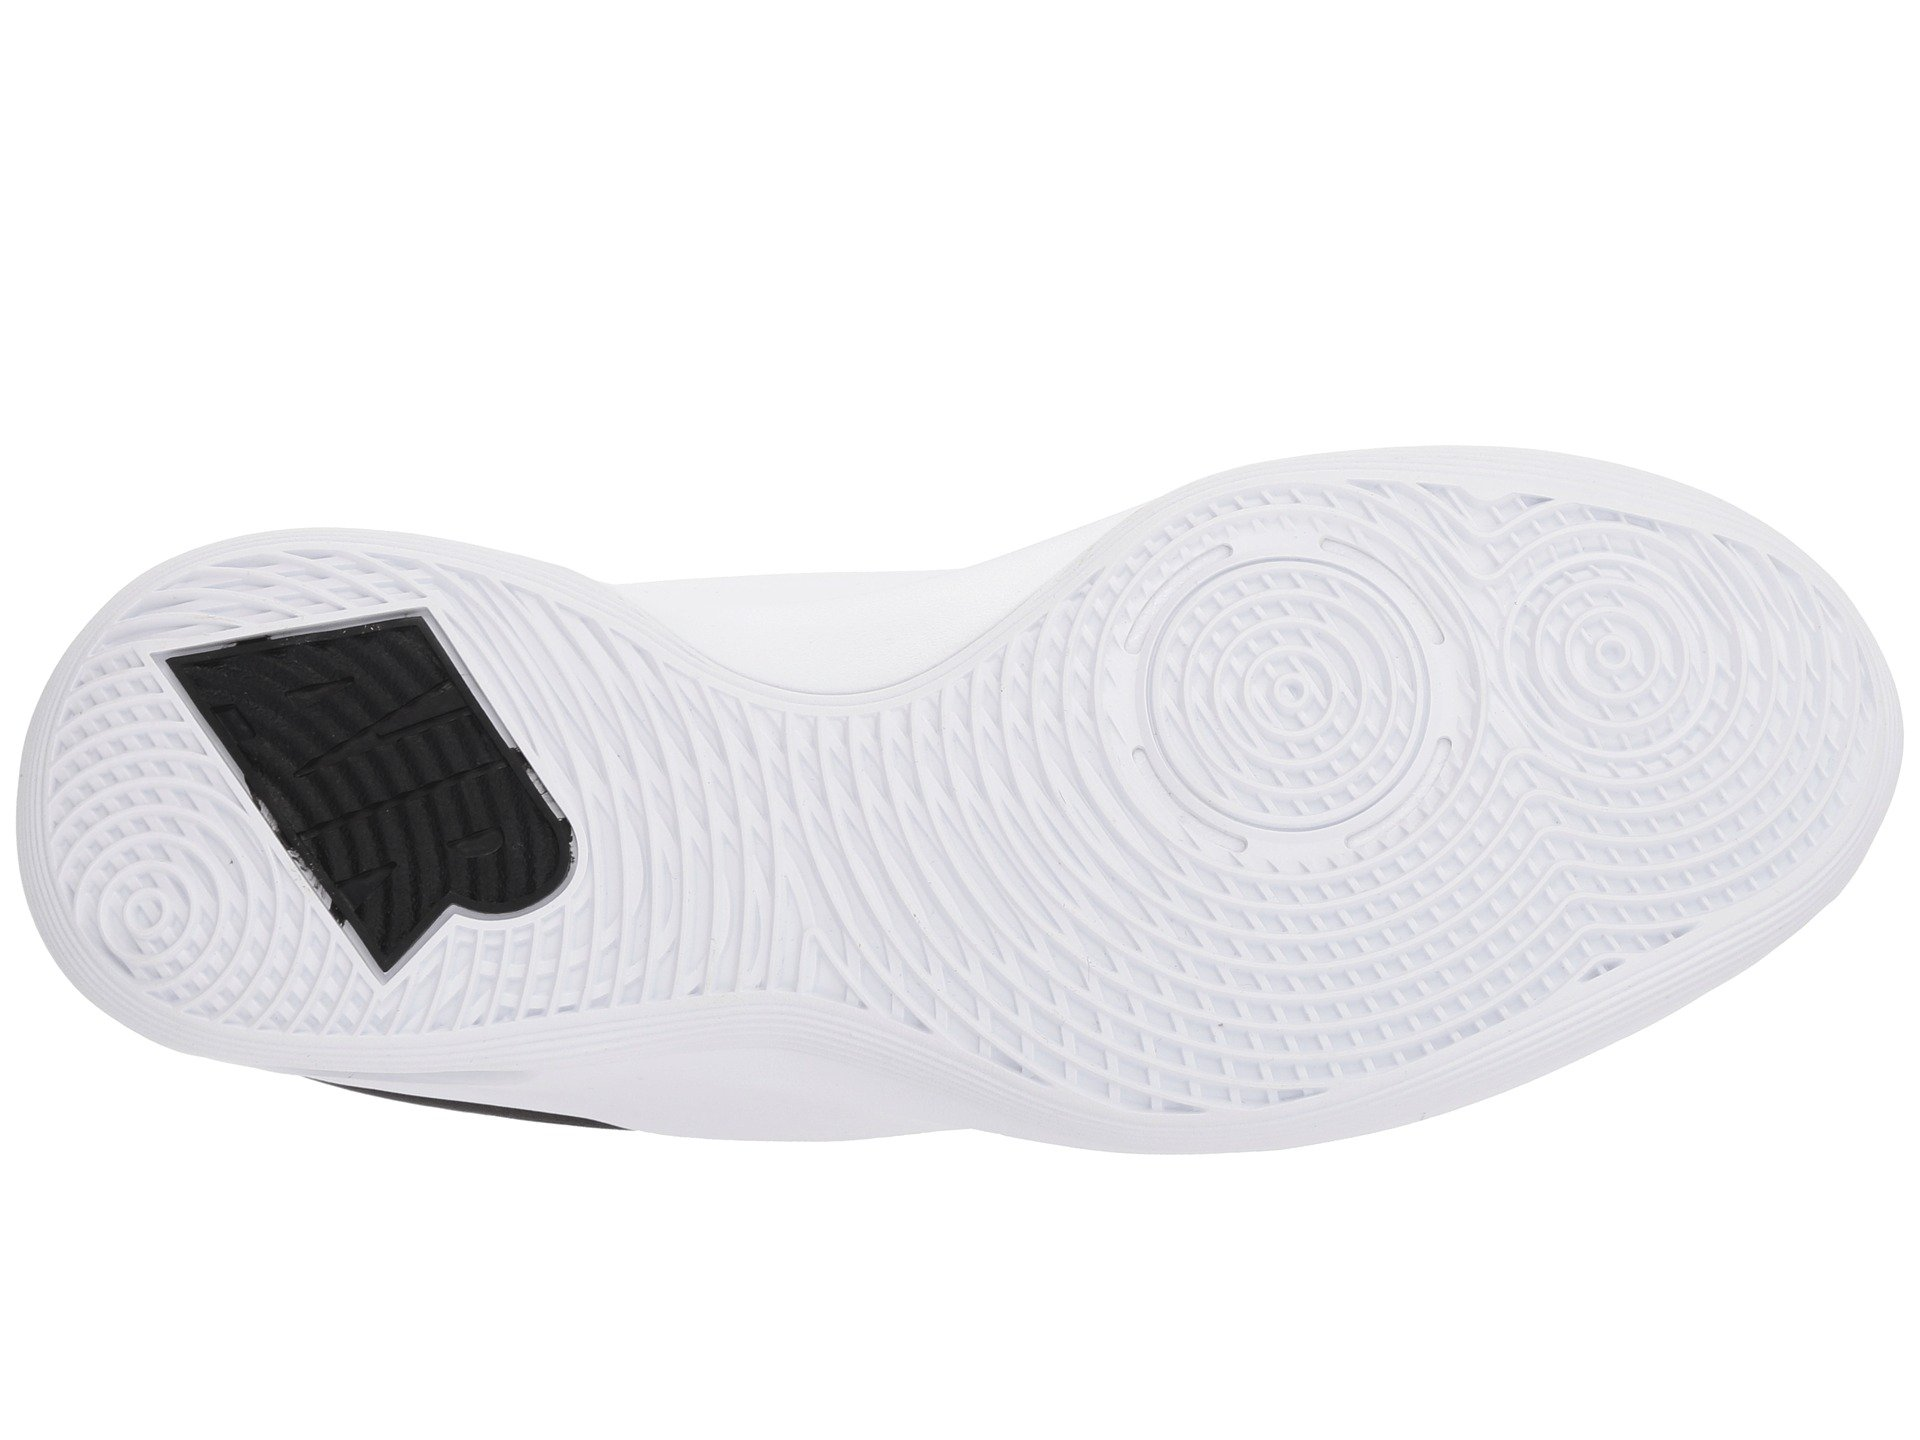circle: (1160, 479, 1661, 1042)
line: (1160, 479, 1661, 1042), (156, 588, 611, 954), (706, 693, 1064, 1035)
quad: (1160, 479, 1661, 1042), (156, 588, 611, 954), (706, 693, 1064, 1035)
triangle: (156, 588, 611, 954)
